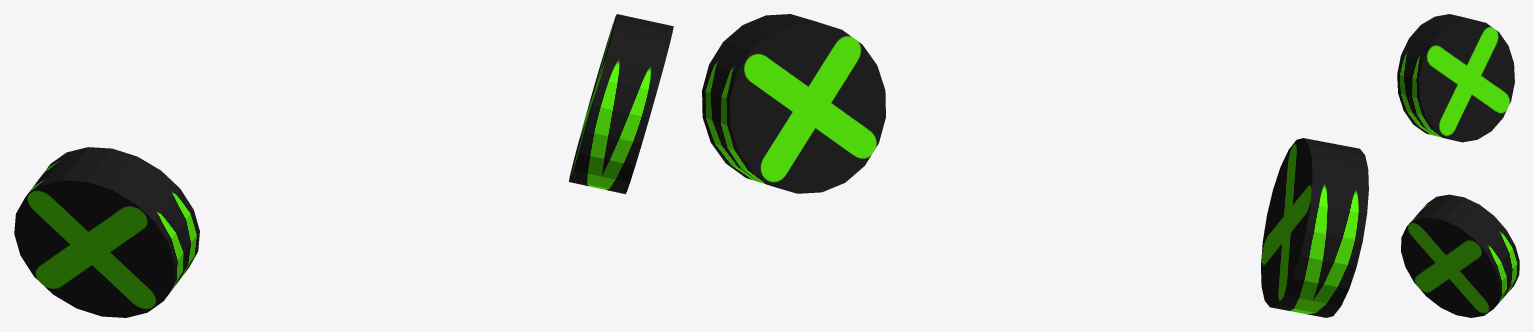
The model's file is hat_1__Object_13.glb.
The picture shows the model from 3 angles, left to right: view 1: azimuth 30°, elevation 25°; view 2: azimuth 150°, elevation 25°; view 3: azimuth 270°, elevation 25°; orthographic projection. The views are drawn at different scales.
Parts seen in each view (by area): view 1: geometry_0; view 2: geometry_0; view 3: geometry_0.
Boxes of the visible parts, x1,y1,x2,y2 form: geometry_0: [14, 14, 673, 317]; geometry_0: [702, 14, 1368, 317]; geometry_0: [1397, 14, 1519, 317].
Size of the model in its own units: 1.18 by 0.2842 by 0.2722.
1 material, 1 textured.
